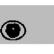correct: (0, 18, 30, 40)
